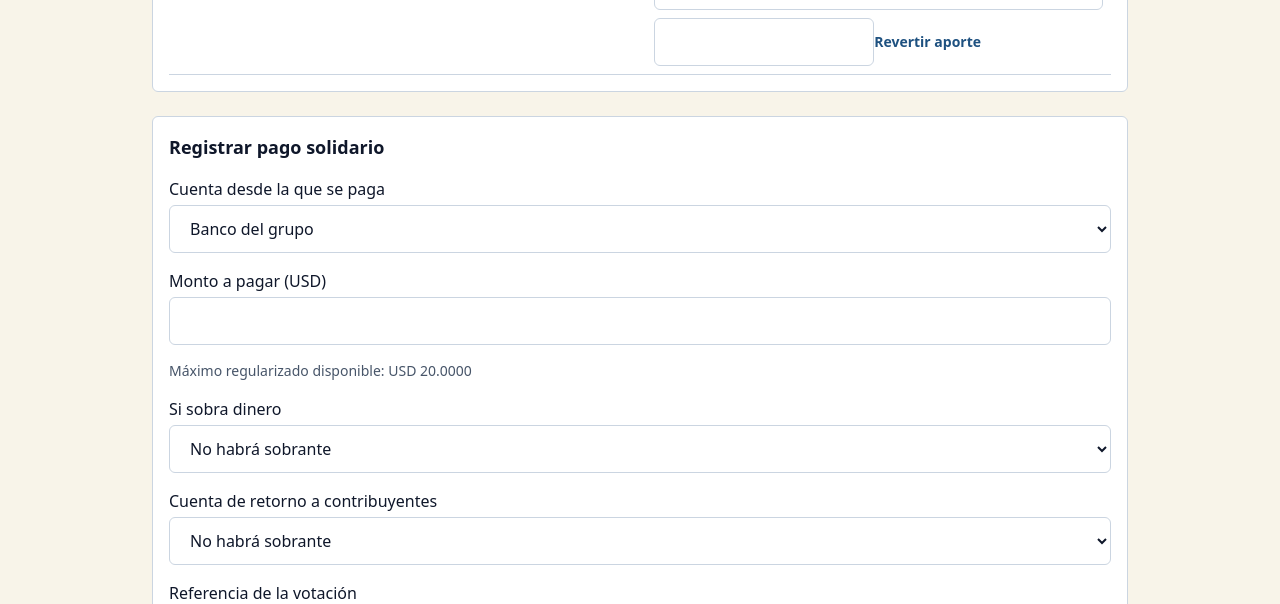
collection screen view contract › prevents a payout above the displayed regularized ceiling
The image size is (1280, 604).
(page scrolled)
Type "20.0001" into the field labelled "Monto a pagar (USD)" at (640, 321), box [169,297,1111,345]
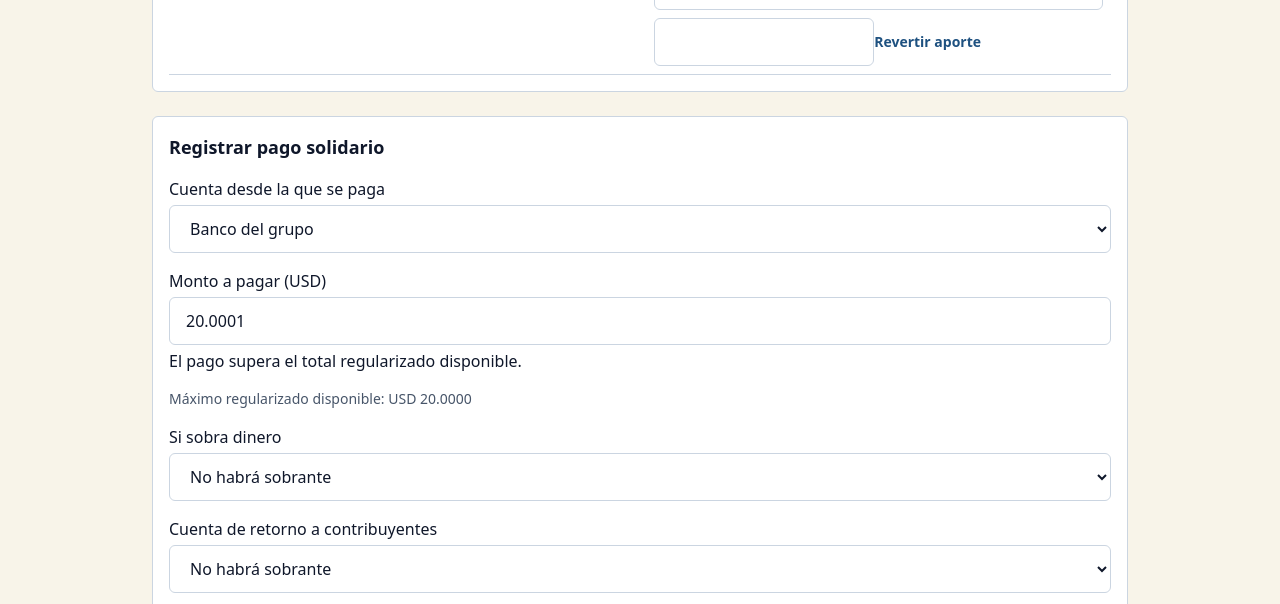
Check: the field labelled "Monto a pagar (USD)" is marked as invalid
Replace the text in the field labelled "Monto a pagar (USD)" with "20.0000" at (640, 321), box [169,297,1111,345]
(page scrolled)
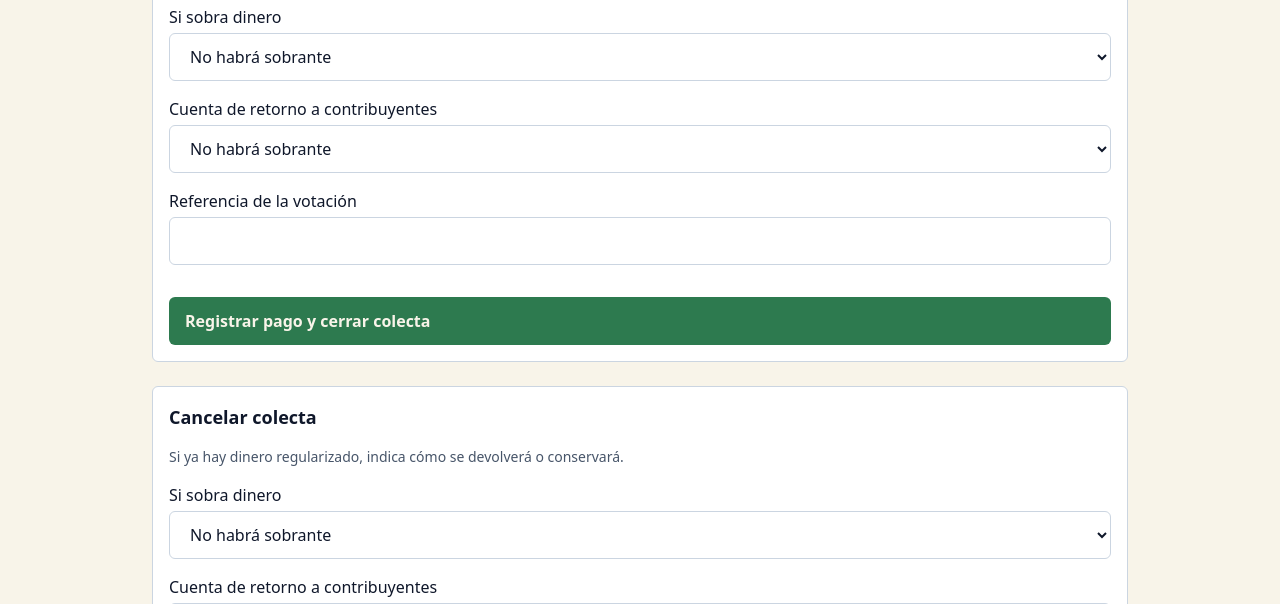
Check: the button "Registrar pago y cerrar colecta" is enabled, box [169,297,1111,345]
